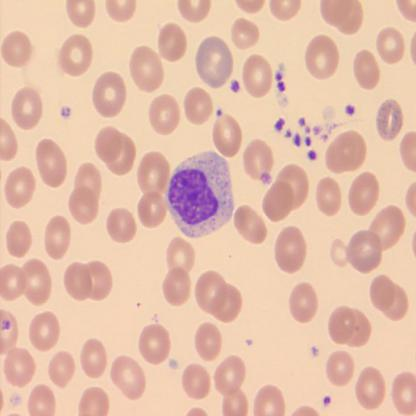Metamyelocyte: (162, 146, 236, 238)
